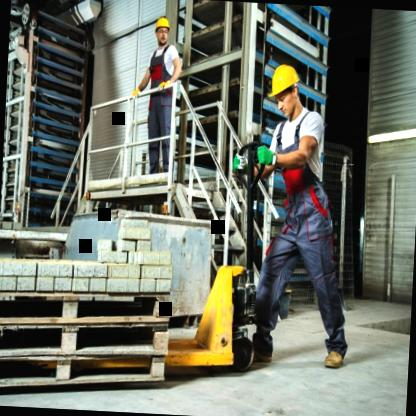helmet: (266, 61, 300, 116), (154, 15, 170, 48)
